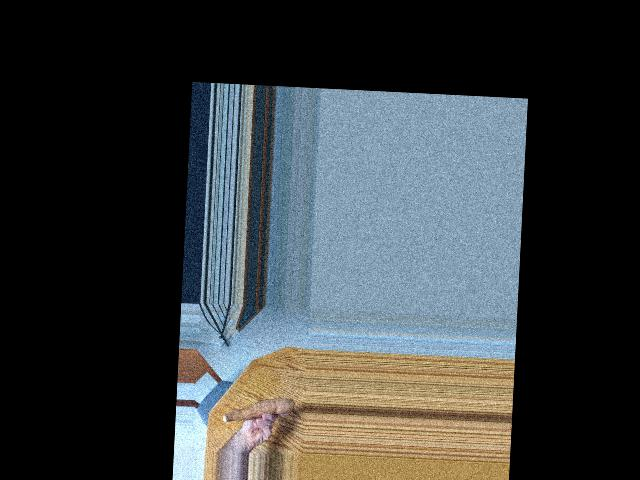sweet_potato: (220, 390, 293, 426)
